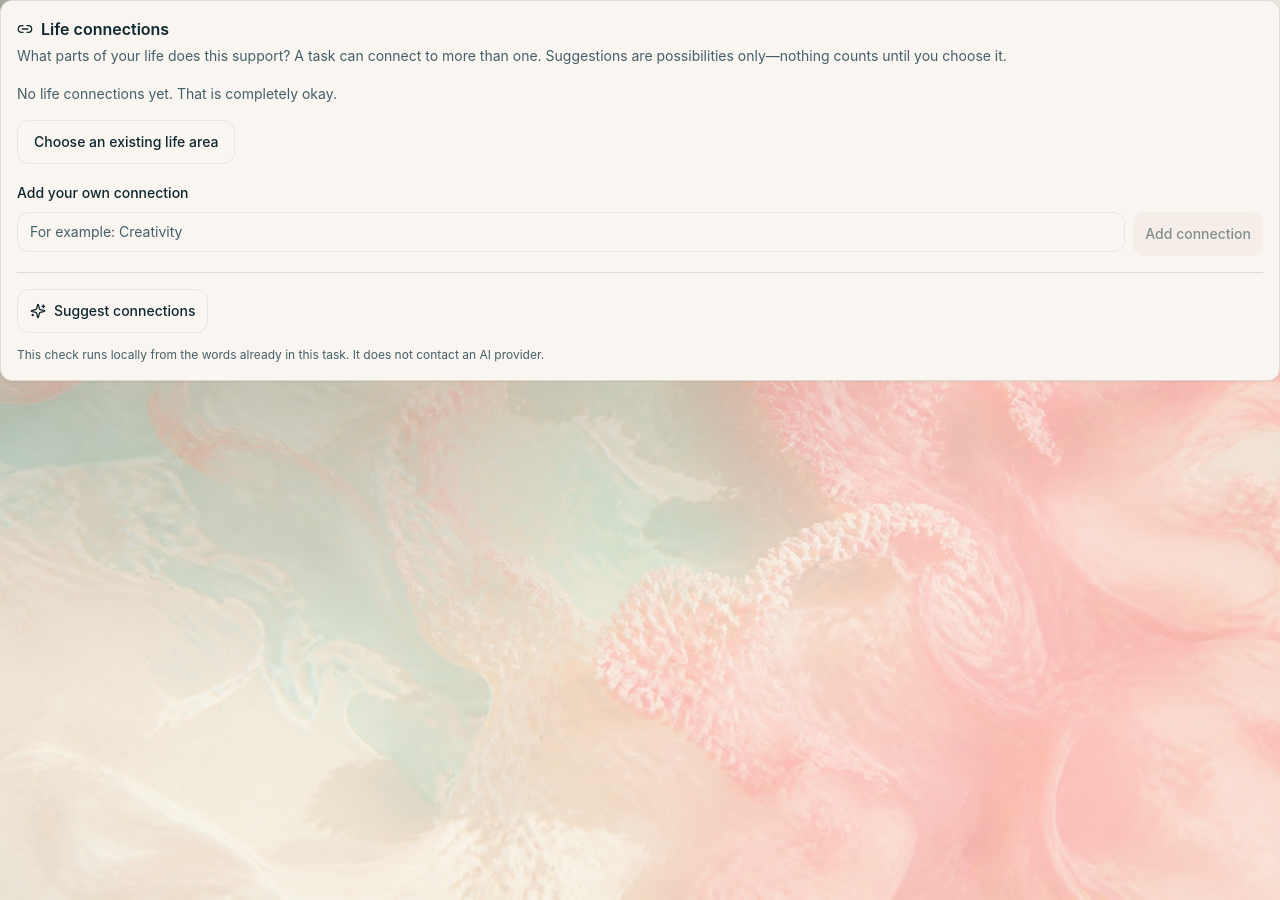
Test: LifeConnectionsEditor › supports an offline manual connection and prevents duplicates
Type "Creative practice" into the field labelled "Add your own connection" at (571,232), box [17, 212, 1125, 252]
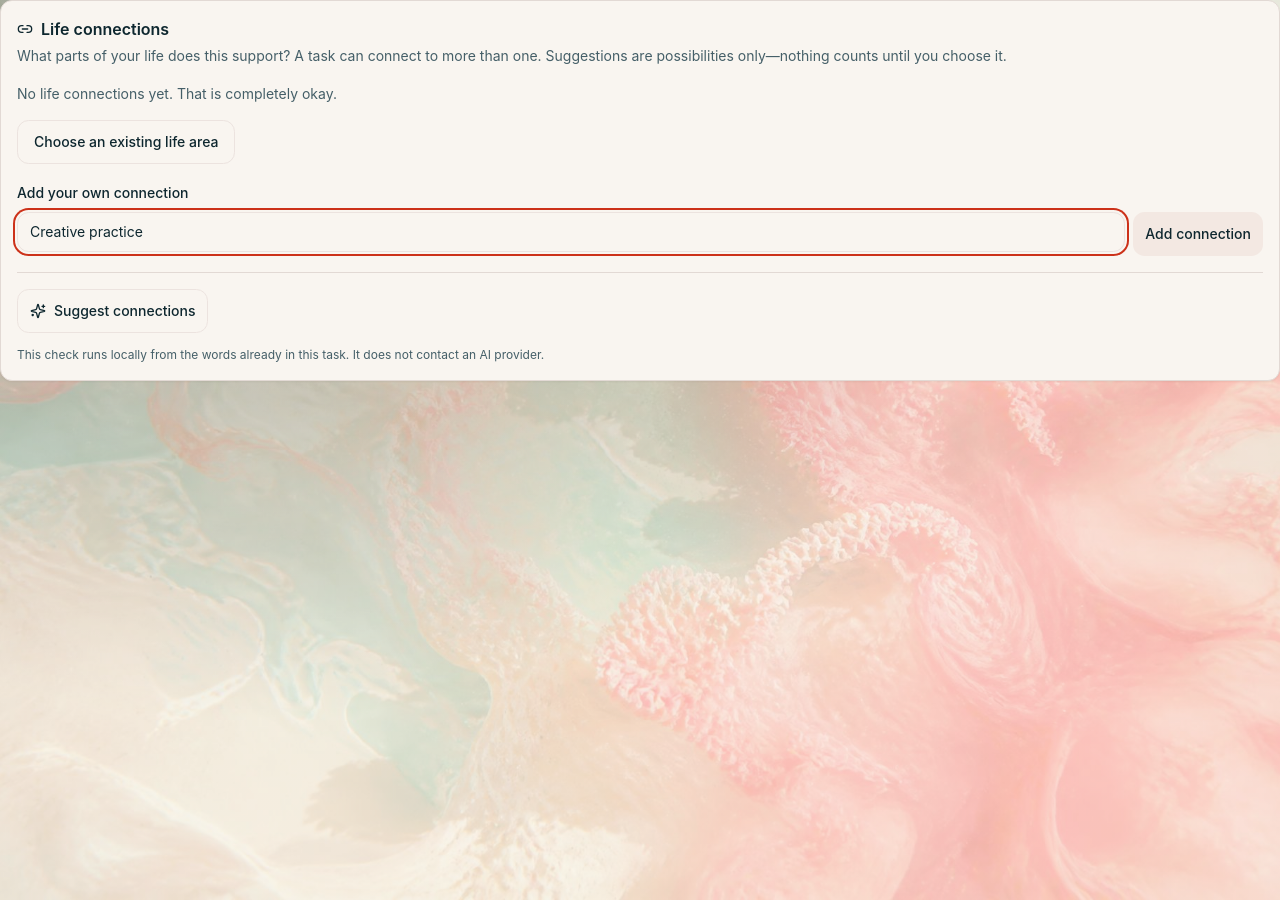
Click the button "Add connection" at (1198,234), box [1133, 212, 1263, 256]
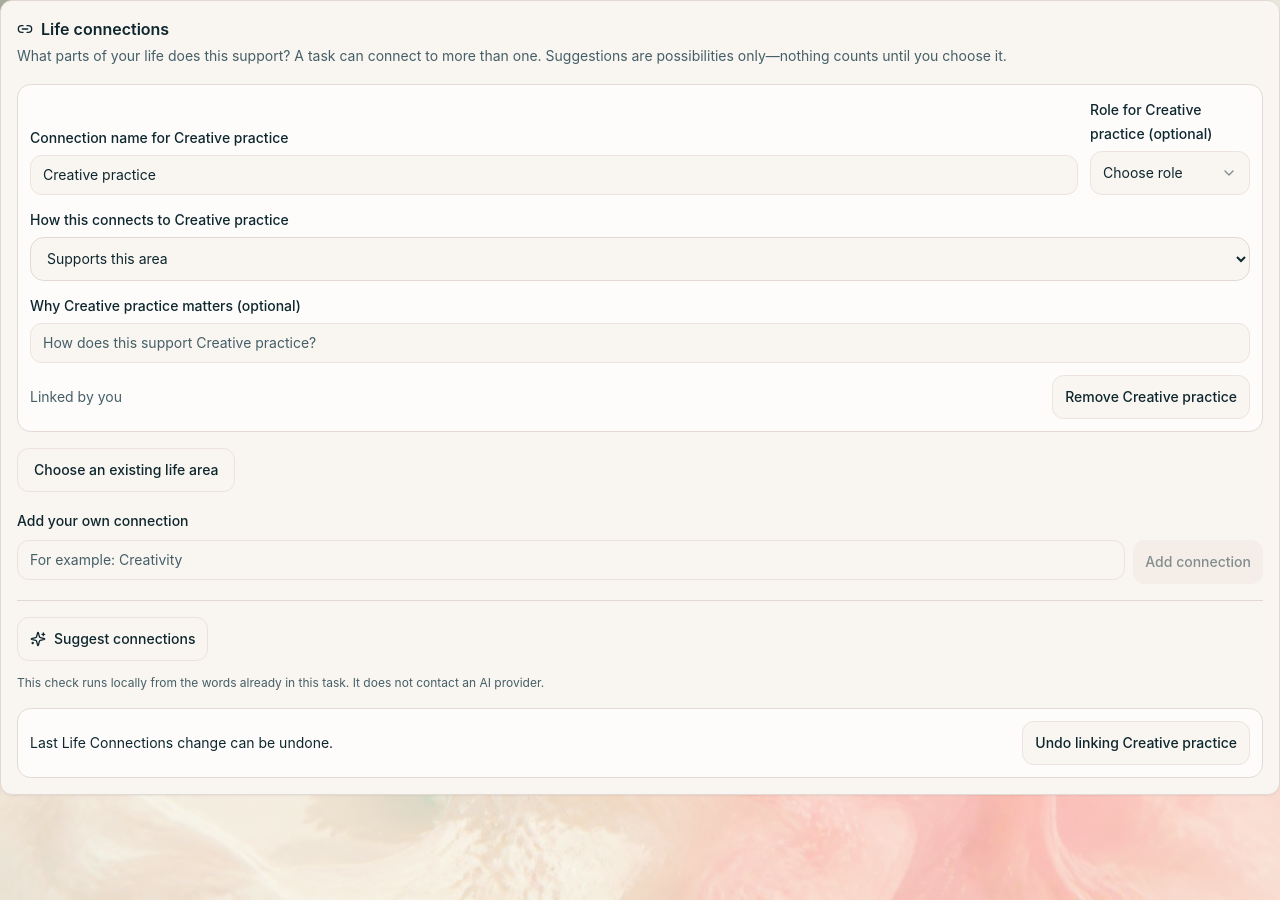
Type "Creative practice" into the field labelled "Add your own connection" at (571,560), box [17, 540, 1125, 580]
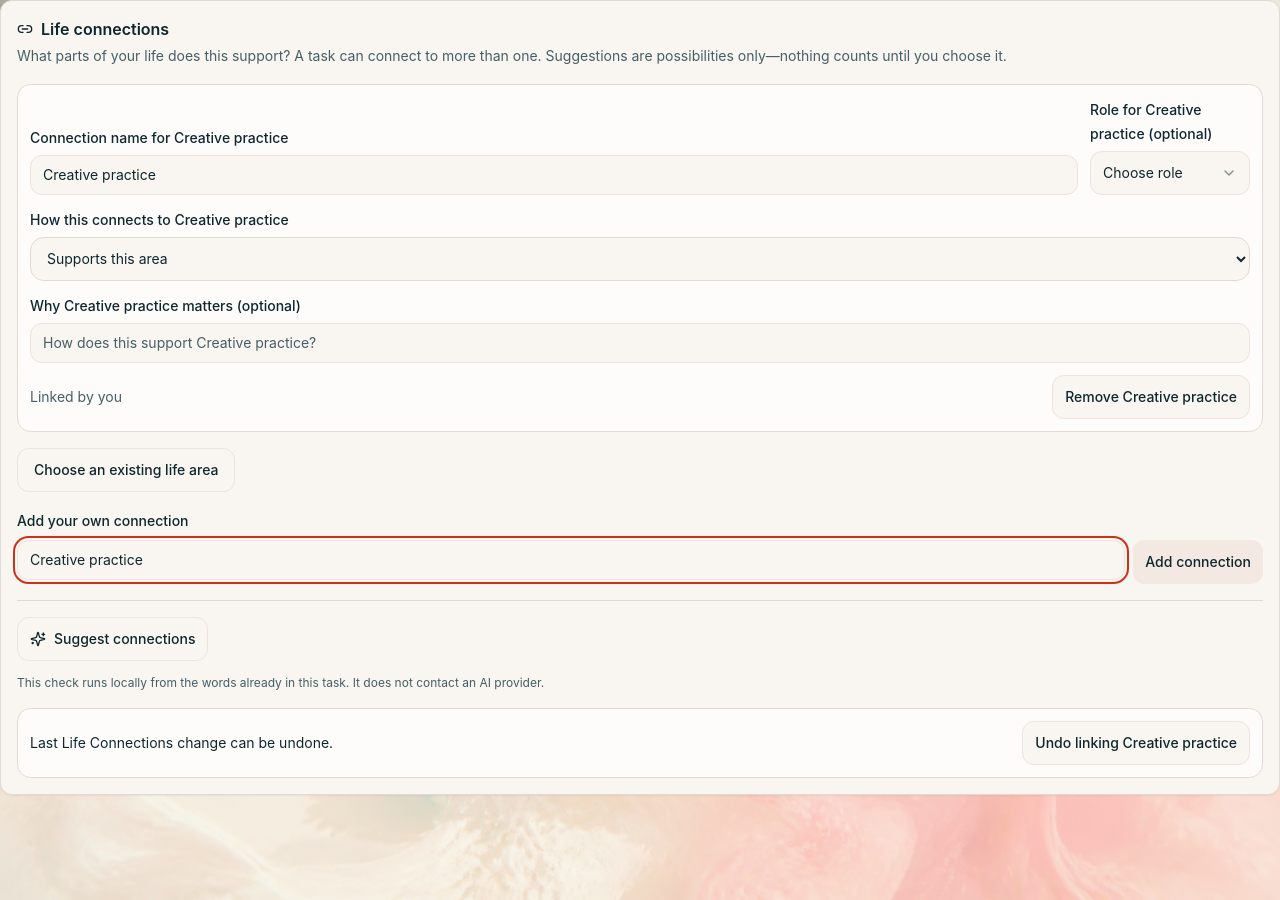
Click the button "Add connection" at (1198,562), box [1133, 540, 1263, 584]
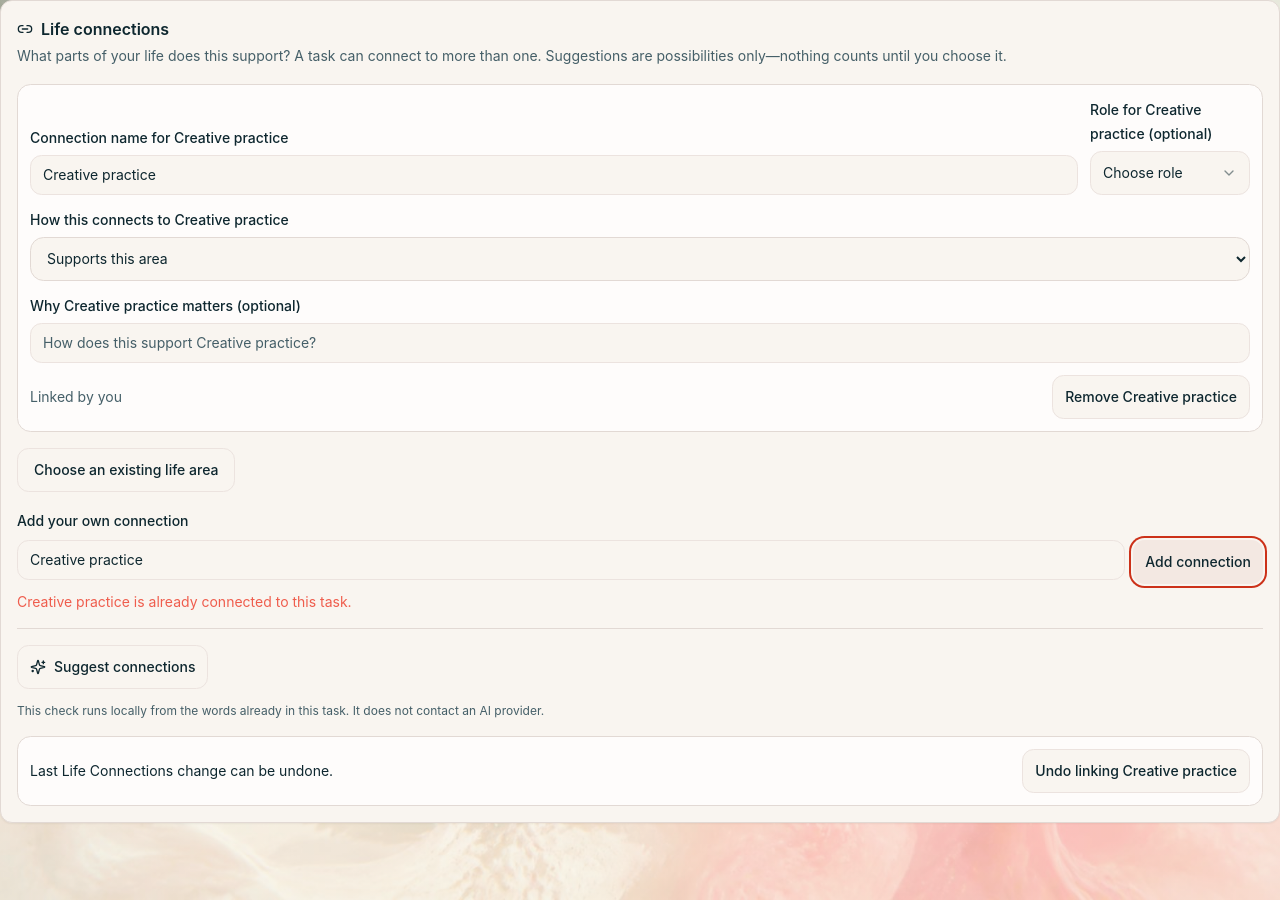
Now the message reads "Creative practice is already connected to this task.", box [17, 593, 352, 610]
